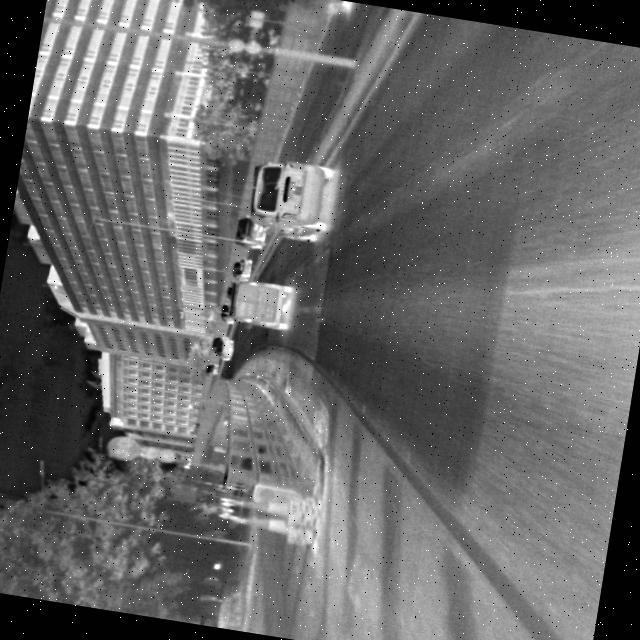Vehicle: (241, 152, 338, 246), (222, 274, 296, 334)
